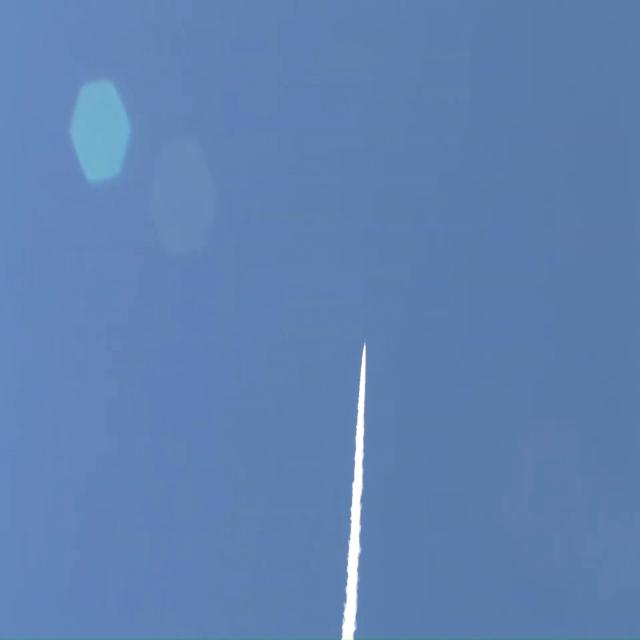Rocket: (364, 337, 366, 344)
